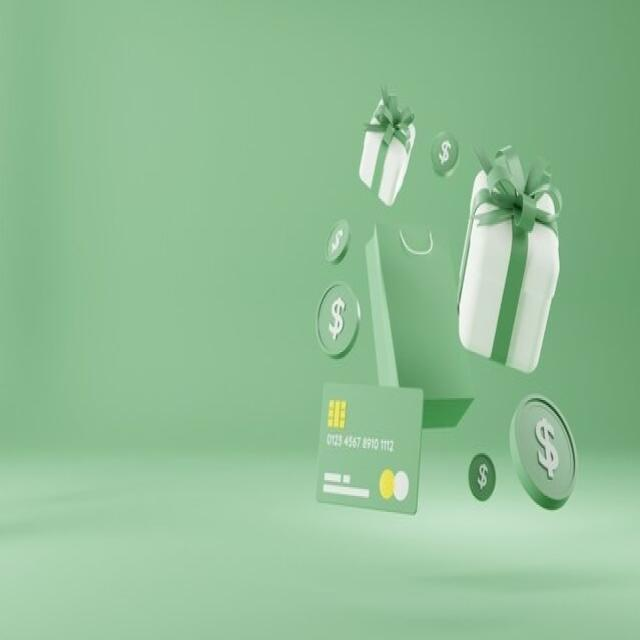payment_card: (314, 381, 424, 515)
